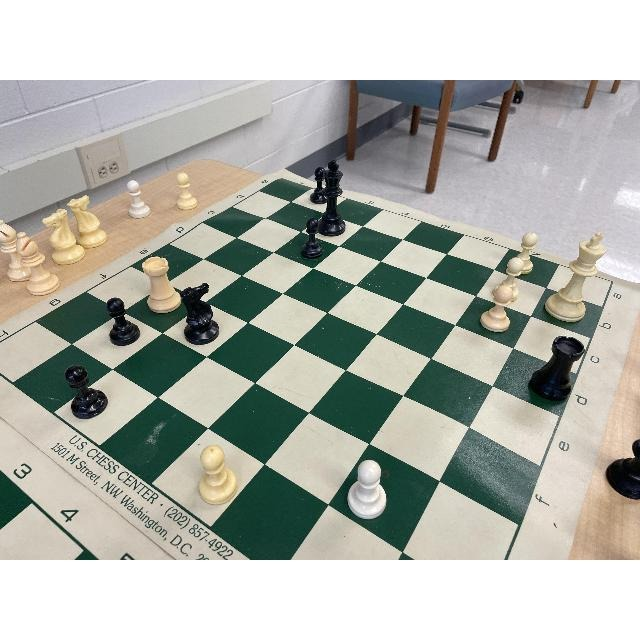black-king: (317, 160, 348, 236)
black-knight: (176, 282, 220, 344)
black-pawn: (61, 364, 108, 420), (103, 294, 142, 345), (299, 216, 326, 259), (309, 165, 332, 205)
black-rook: (530, 334, 586, 407)
white-king: (544, 233, 605, 324)
white-pawn: (346, 458, 392, 520), (195, 443, 241, 504), (479, 283, 514, 334), (493, 257, 527, 301), (513, 230, 541, 275)
white-rook: (139, 255, 183, 317)
